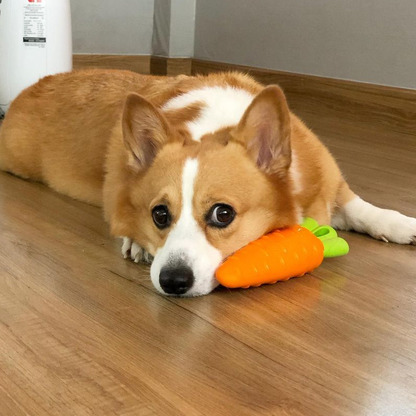Corgi: (19, 56, 381, 303)
